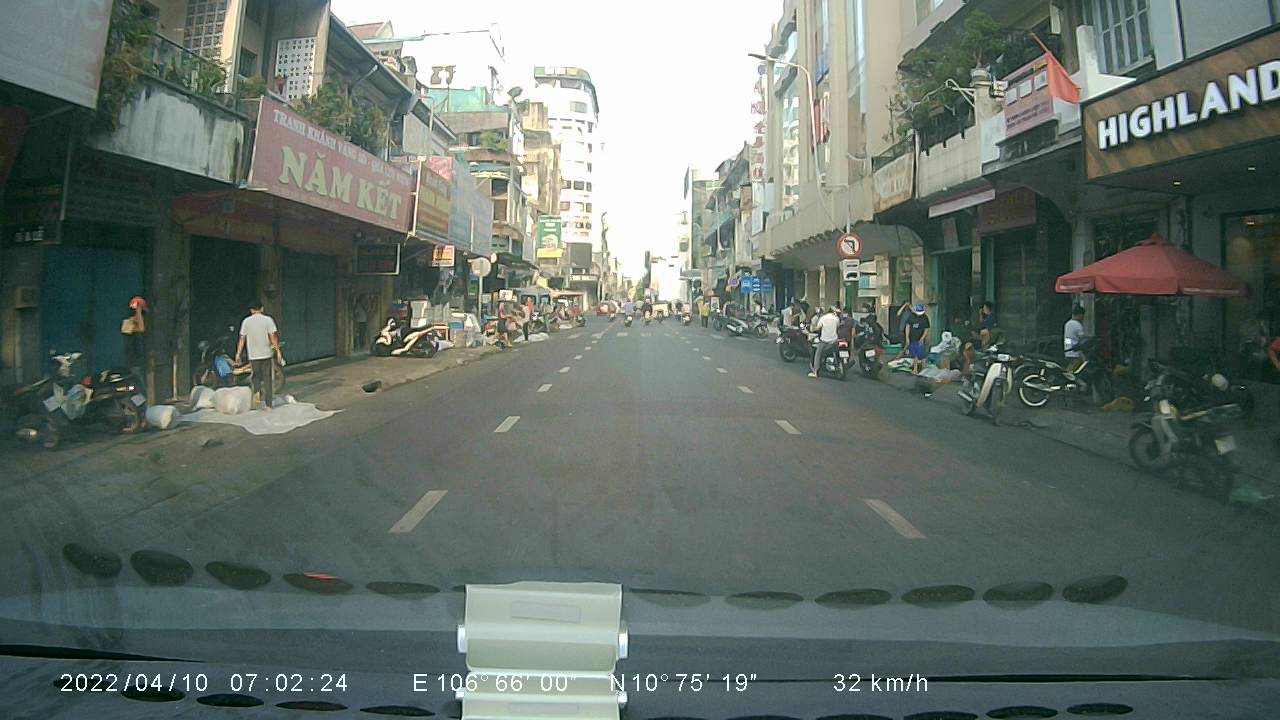Bien khac: (836, 232, 861, 255)
